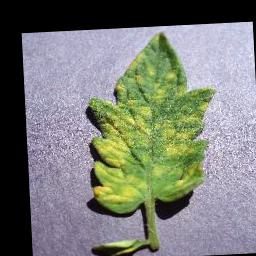Leaf_Mold: (84, 29, 222, 216)
